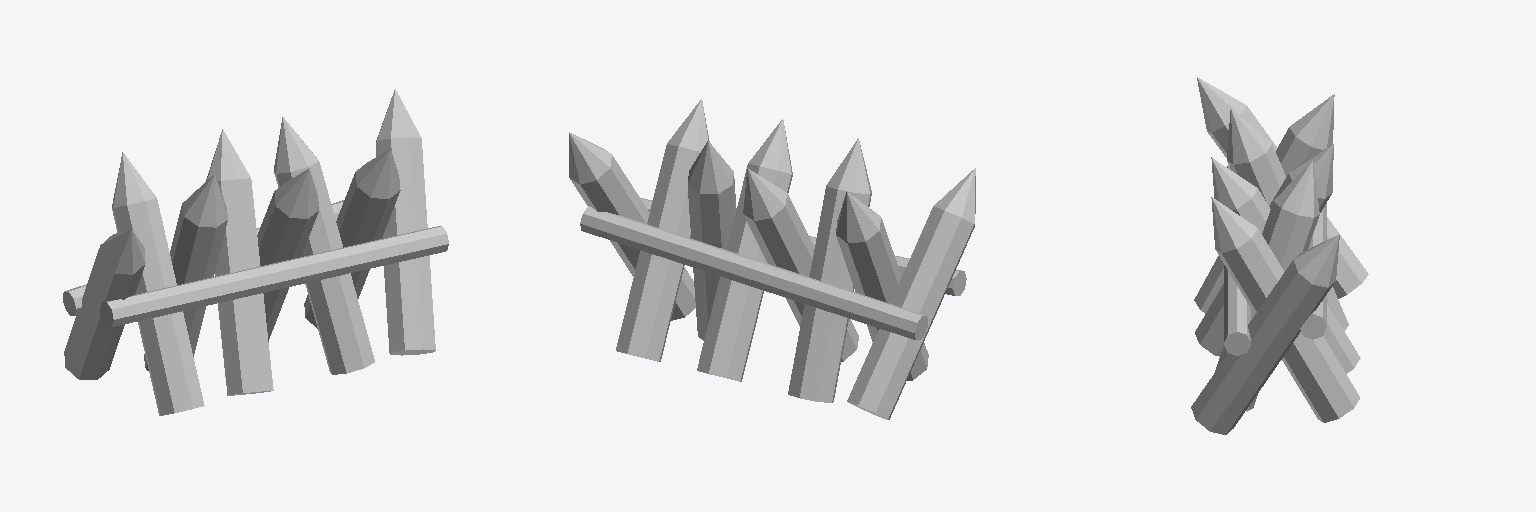
File: Spike 1.obj
The picture shows the model from 3 angles: view 1: azimuth 30°, elevation 25°; view 2: azimuth 150°, elevation 25°; view 3: azimuth 270°, elevation 25°; orthographic projection.
Visible parts, largest first — view 1: Support_bar_1, Spike_7, Spike_5, Spike_1, Spike_3, Spike_8, Spike_6, Spike_4, Spike_2, Support_bar_2; view 2: Spike_8, Support_bar_2, Spike_2, Spike_6, Spike_4, Spike_5, Spike_1, Spike_3, Spike_7, Support_bar_1; view 3: Spike_1, Spike_2, Spike_3, Spike_6, Spike_8, Spike_7, Spike_4, Spike_5, Support_bar_1, Support_bar_2.
Boxes of the visible parts, box(x1,y1,x2,y2) form: Support_bar_1: box(100, 226, 448, 326); Spike_7: box(112, 152, 204, 415); Spike_5: box(206, 129, 273, 395); Spike_1: box(376, 89, 435, 355); Spike_3: box(274, 117, 374, 374); Spike_8: box(64, 229, 145, 379); Spike_6: box(144, 174, 227, 370); Spike_4: box(257, 168, 318, 341); Spike_2: box(304, 148, 400, 328); Support_bar_2: box(63, 200, 343, 315); Spike_8: box(847, 168, 975, 419); Support_bar_2: box(580, 206, 927, 339); Spike_2: box(616, 99, 709, 361); Spike_6: box(788, 138, 871, 402); Spike_4: box(697, 119, 792, 381); Spike_5: box(743, 168, 858, 361); Spike_1: box(569, 132, 695, 320); Spike_3: box(688, 141, 736, 340); Spike_7: box(836, 192, 928, 380); Support_bar_1: box(641, 198, 966, 295); Spike_1: box(1191, 234, 1339, 434); Spike_2: box(1211, 197, 1359, 422); Spike_3: box(1215, 161, 1319, 411); Spike_6: box(1227, 108, 1348, 330); Spike_8: box(1197, 77, 1368, 298); Spike_7: box(1194, 94, 1334, 313); Spike_4: box(1211, 157, 1360, 373); Spike_5: box(1195, 144, 1333, 356); Support_bar_1: box(1224, 165, 1250, 355); Support_bar_2: box(1300, 203, 1326, 339).
Size of the model in its own units: 17.07 by 10.58 by 7.28.